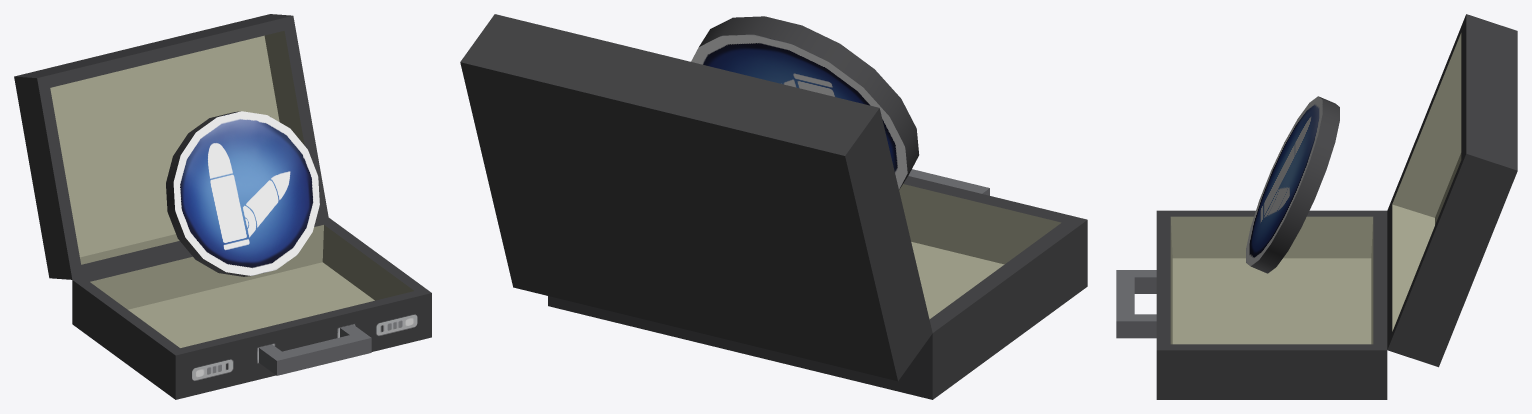
The model's file is BulletCase.FBX.
3 renders of one model, left to right at view 1: azimuth 30°, elevation 25°; view 2: azimuth 150°, elevation 25°; view 3: azimuth 270°, elevation 25°, orthographic. The views are drawn at different scales.
Visible parts, largest first — view 1: bullets; view 2: bullets; view 3: bullets.
Part boxes in pixels (x1=…): bullets: x1=14, y1=14, x2=431, y2=399; bullets: x1=460, y1=14, x2=1087, y2=399; bullets: x1=1116, y1=14, x2=1517, y2=399.
Bounding box in the file's own units: 45.84 × 55.68 × 37.66.
